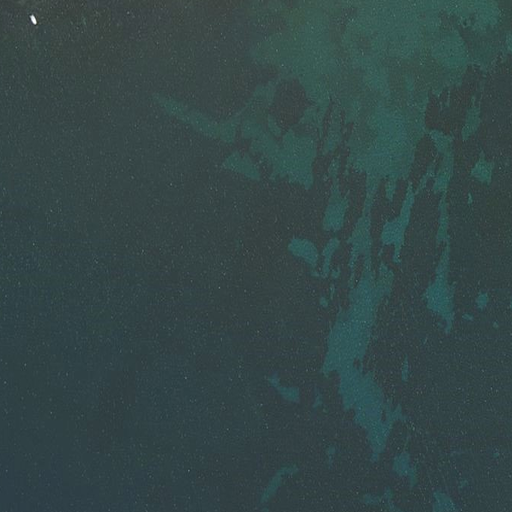ship: (28, 13, 39, 27)
